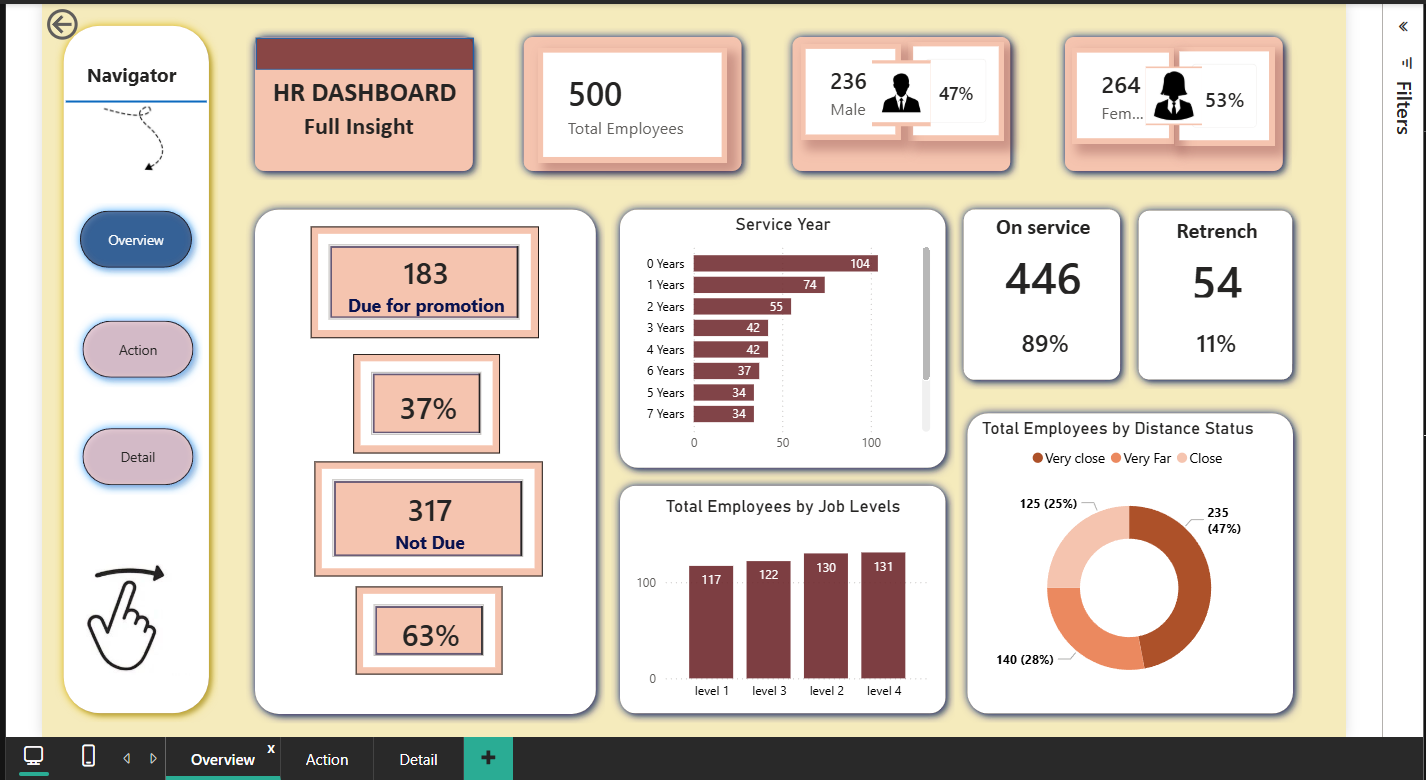

The page's visual inventory and layout, read from the dashboard file:
{"tool":"powerbi","page":{"name":"Overview","canvas":[1280,720],"ordinal":0},"visuals":[{"type":"shape","box":[12.3,12.3,160.5,693],"z":0},{"type":"shape","box":[200.3,23.3,231.9,149.6],"z":1000},{"type":"shape","box":[994.9,23.3,231.9,149.6],"z":2000},{"type":"shape","box":[727.3,23.3,231.9,149.6],"z":3000},{"type":"shape","box":[463.8,23.3,231.9,149.6],"z":4000},{"type":"shape","box":[200.3,192.1,352.7,513.2],"z":5000},{"type":"shape","box":[558.5,192.1,337.6,271.7],"z":6000},{"type":"shape","box":[558.5,463.8,337.6,241.5],"z":7000},{"type":"shape","box":[896.1,192.1,171.5,185.2],"z":8000},{"type":"shape","box":[1067.6,193.5,168.8,183.9],"z":9000},{"type":"shape","box":[898.8,392.5,337.6,312.9],"z":10000},{"type":"textbox","box":[209.9,64.5,214.1,46.7],"z":11000},{"type":"textbox","box":[236,98.8,150.9,46.7],"z":12000},{"type":"shape","box":[209.9,32.9,214.1,31.6],"z":13000},{"type":"cardVisual","title":"TOTAL EMPLOYEES","fields":{"Data":["All Measures.Total EMP"]},"box":[487.1,42.5,185.2,112.5],"z":14000},{"type":"cardVisual","fields":{"Data":["All Measures.Male"]},"box":[745.1,39.8,98.8,94.7],"z":15000},{"type":"cardVisual","fields":{"Data":["All Measures.% male"]},"box":[850.8,37,94.7,97.4],"z":16000},{"type":"cardVisual","fields":{"Data":["All Measures.Female"]},"box":[1011.3,42.5,100.2,94.7],"z":17000},{"type":"cardVisual","fields":{"Data":["All Measures.% Female"]},"box":[1111.5,41.2,98.8,97.4],"z":18000},{"type":"image","box":[1084.1,61.7,54.9,57.6],"z":19000},{"type":"image","box":[815.1,54.9,57.6,64.5],"z":20000},{"type":"cardVisual","fields":{"Data":["All Measures.Due for promotion"]},"box":[263.5,218.2,223.7,109.8],"z":21000},{"type":"cardVisual","fields":{"Data":["All Measures.% Due for promotion"]},"box":[306,343.1,144.1,97.4],"z":22000},{"type":"cardVisual","fields":{"Data":["All Measures.Not Due"]},"box":[267.6,448.7,223.7,112.5],"z":23000},{"type":"cardVisual","fields":{"Data":["All Measures.% Not Due"]},"box":[307.4,572.2,144.1,86.4],"z":24000},{"type":"barChart","title":"Service Year","fields":{"Category":["HR Analytics Data.Service Year"],"Y":["All Measures.Total Employees"]},"box":[577.7,205.8,299.1,242.9],"z":25000},{"type":"actionButton","box":[0,0,100,40],"z":26000},{"type":"columnChart","fields":{"Y":["All Measures.Total Employees"],"Category":["HR Analytics Data.Job Levels"]},"box":[577.7,481.6,299.1,209.9],"z":27000},{"type":"cardVisual","title":"On service","fields":{"Data":["All Measures.On service"]},"box":[907,205.8,152.3,96.1],"z":28000},{"type":"cardVisual","fields":{"Data":["All Measures.% On services"]},"box":[923.5,303.3,122.1,56.3],"z":29000},{"type":"cardVisual","title":"Retrench","fields":{"Data":["All Measures.Will be retreanched"]},"box":[1077.3,210.3,152.3,96.1],"z":30000},{"type":"cardVisual","fields":{"Data":["All Measures.% will be retreanched"]},"box":[1092.3,303.3,122.1,56.3],"z":31000},{"type":"donutChart","fields":{"Category":["HR Analytics Data.Distance Status"],"Y":["All Measures.Total Employees"]},"box":[918,406.2,299.1,285.4],"z":32000},{"type":"pageNavigator","box":[28.8,193.5,129,74.1],"z":33000},{"type":"pageNavigator","box":[30.2,301.9,127.6,74.1],"z":34000},{"type":"pageNavigator","box":[30.2,407.5,127.6,74.1],"z":35000},{"type":"textbox","box":[28.8,52.1,119.4,71.4],"z":36000},{"type":"shape","box":[23.3,49.4,138.6,93.3],"z":37000},{"type":"image","box":[30.2,65.9,118,131.7],"z":38000},{"type":"image","box":[24.7,540.7,135.8,118],"z":39000}]}

Visuals, with their boxes on the page's 1280x720 design canvas (x1, y1, x2, y2). These are canvas units, not pixel positions in the 1426x780 screenshot, which may show the page scaled, cropped or inside an application window:
shape: 12:12:173:705
shape: 200:23:432:173
shape: 995:23:1227:173
shape: 727:23:959:173
shape: 464:23:696:173
shape: 200:192:553:705
shape: 558:192:896:464
shape: 558:464:896:705
shape: 896:192:1068:377
shape: 1068:194:1236:377
shape: 899:392:1236:705
textbox: 210:64:424:111
textbox: 236:99:387:146
shape: 210:33:424:64
"TOTAL EMPLOYEES" cardVisual: 487:42:672:155
cardVisual - All Measures.Male: 745:40:844:134
cardVisual - All Measures.% male: 851:37:946:134
cardVisual - All Measures.Female: 1011:42:1112:137
cardVisual - All Measures.% Female: 1112:41:1210:139
image: 1084:62:1139:119
image: 815:55:873:119
cardVisual - All Measures.Due for promotion: 264:218:487:328
cardVisual - All Measures.% Due for promotion: 306:343:450:440
cardVisual - All Measures.Not Due: 268:449:491:561
cardVisual - All Measures.% Not Due: 307:572:452:659
"Service Year" barChart: 578:206:877:449
actionButton: 0:0:100:40
columnChart - All Measures.Total Employees x HR Analytics Data.Job Levels: 578:482:877:692
"On service" cardVisual: 907:206:1059:302
cardVisual - All Measures.% On services: 924:303:1046:360
"Retrench" cardVisual: 1077:210:1230:306
cardVisual - All Measures.% will be retreanched: 1092:303:1214:360
donutChart - HR Analytics Data.Distance Status x All Measures.Total Employees: 918:406:1217:692
pageNavigator: 29:194:158:268
pageNavigator: 30:302:158:376
pageNavigator: 30:408:158:482
textbox: 29:52:148:124
shape: 23:49:162:143
image: 30:66:148:198
image: 25:541:160:659
